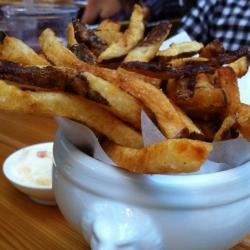fries: (4, 30, 228, 135)
